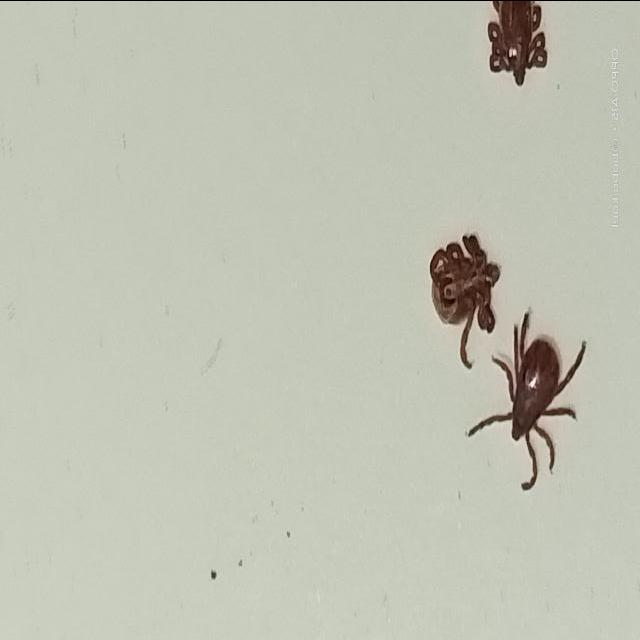Rhipicephalus Sanguineus-M: (469, 312, 589, 492)
